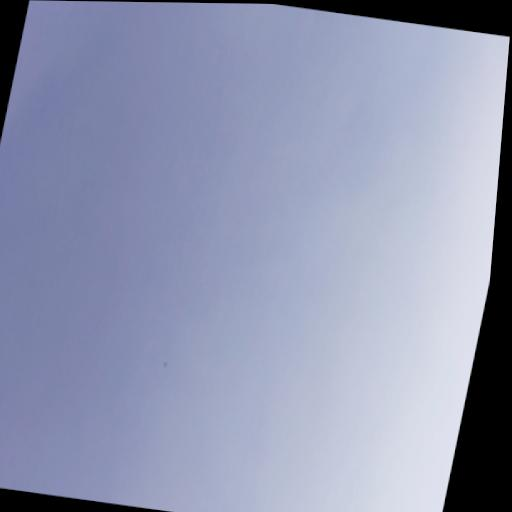drones: (157, 355, 171, 374)
